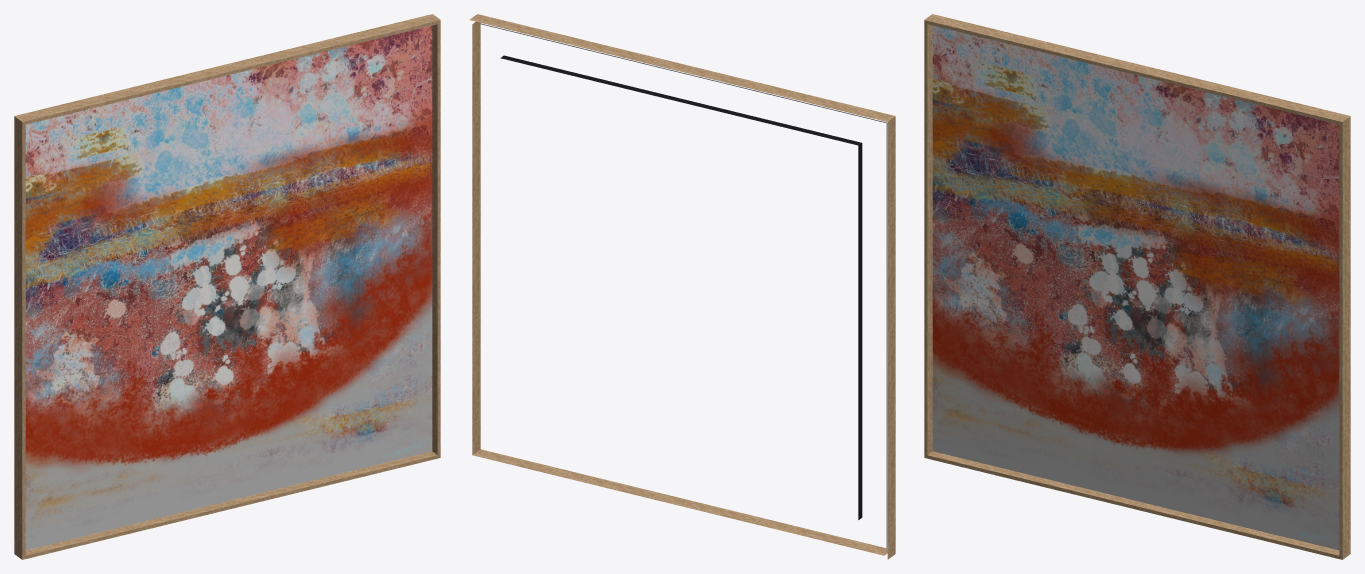
Rendered from va163_grand_caisse-chene.glb.
3 renders of one model, left to right at view 1: azimuth 30°, elevation 25°; view 2: azimuth 150°, elevation 25°; view 3: azimuth 330°, elevation 25°, orthographic.
Visible parts, largest first — view 1: va163_grand_caisse-chene; view 2: va163_grand_caisse-chene; view 3: va163_grand_caisse-chene.
Part boxes in pixels (box(x1,y1,x2,y2)): va163_grand_caisse-chene: box(14, 14, 440, 559); va163_grand_caisse-chene: box(469, 14, 895, 559); va163_grand_caisse-chene: box(924, 14, 1350, 559).
Size of the model in its own units: 1.03 by 1.03 by 0.035.
Materials: 4 (2 with a texture image).
